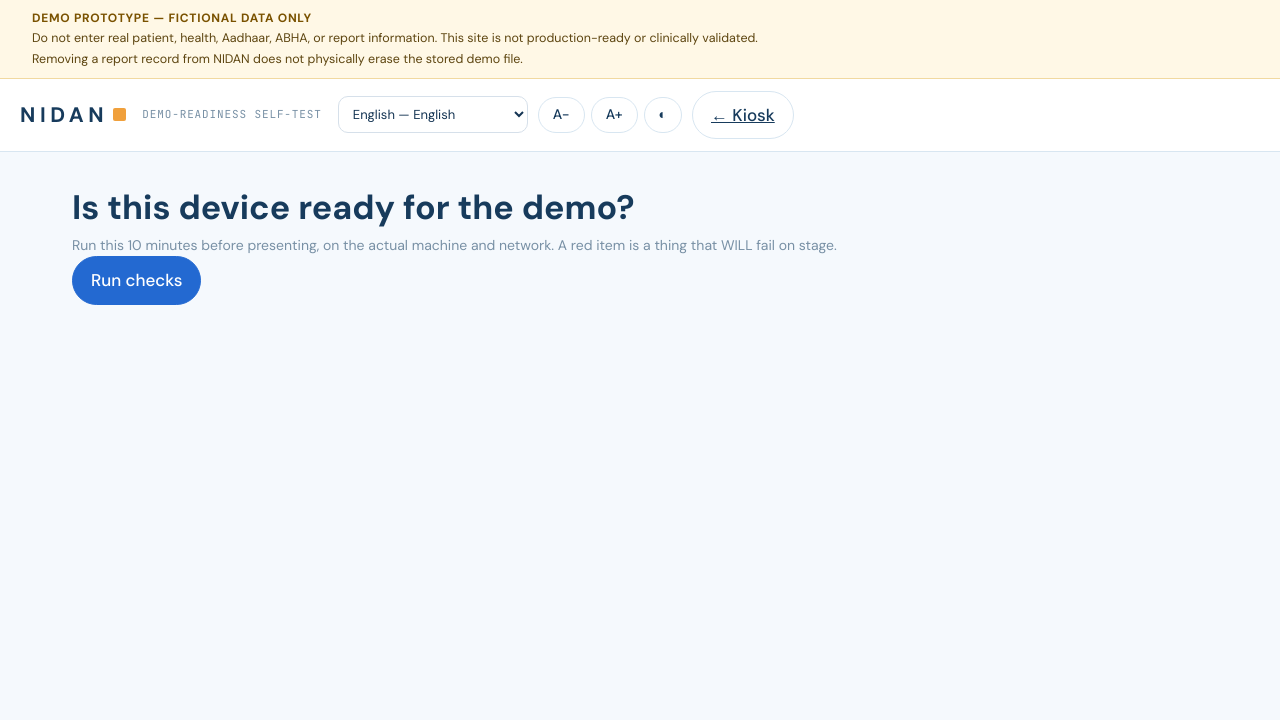
Test: self-test and about pages render; accessibility (axe) has no serious violations › self-test lists checks
This screenshot has width=1280, height=720.
Click the button "Run checks" at (137, 281), box x1=72 y1=256 x2=202 y2=305
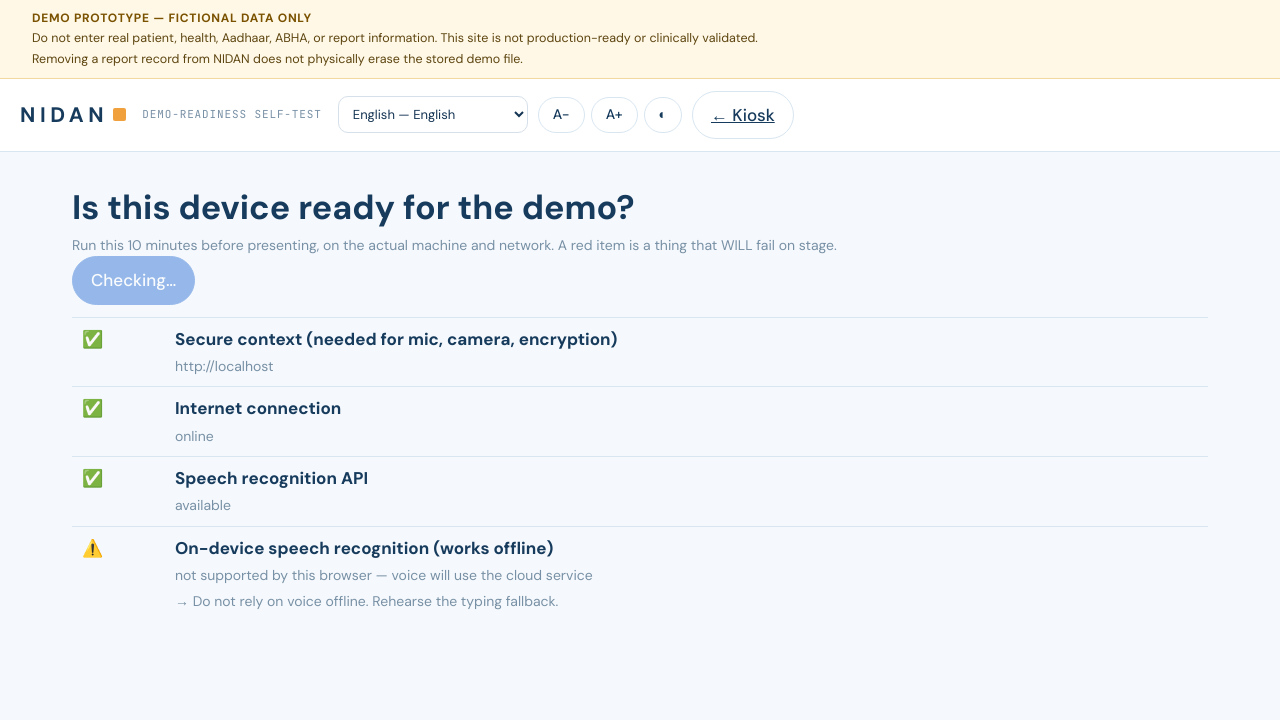
Expected: the text "Secure context (needed for mic, camera, encryption)" is shown, x1=175 y1=328 x2=618 y2=350
